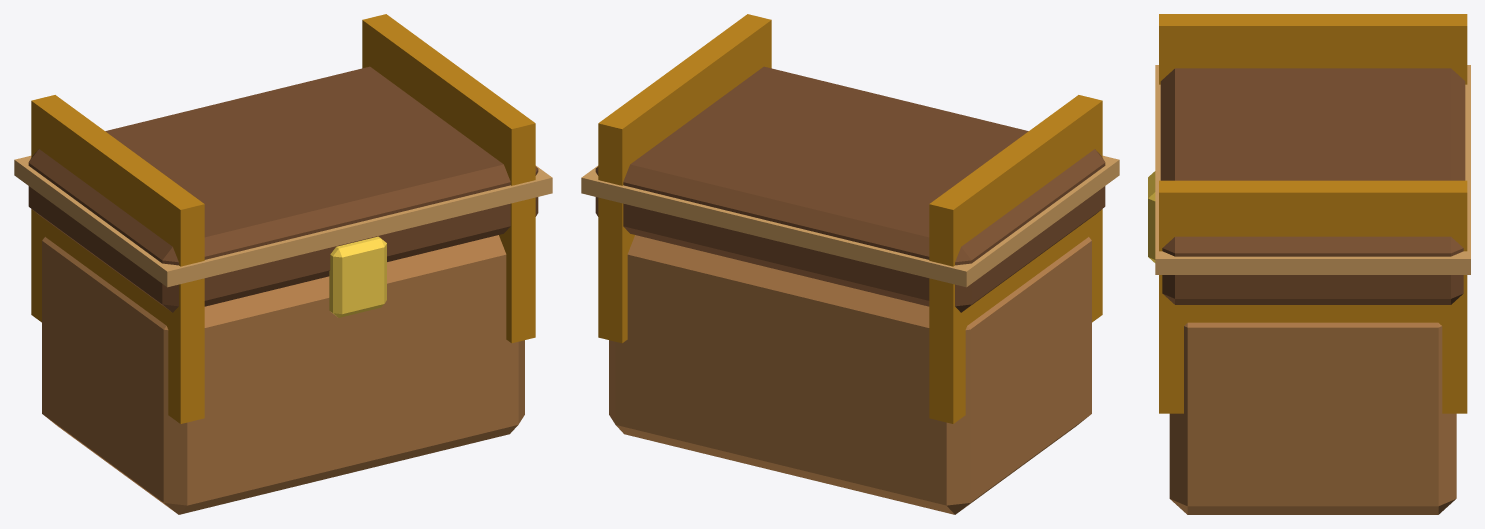
File: wood_chest.glb
The picture shows the model from 3 angles, left to right: view 1: azimuth 30°, elevation 25°; view 2: azimuth 150°, elevation 25°; view 3: azimuth 270°, elevation 25°; orthographic projection. The views are drawn at different scales.
Visible parts, largest first — view 1: wood_chest; view 2: wood_chest; view 3: wood_chest.
Boxes of the visible parts, <box> form: wood_chest: <box>14,14,552,514</box>; wood_chest: <box>581,14,1119,514</box>; wood_chest: <box>1148,14,1470,514</box>.
Bounding box in the file's own units: 1.28 × 1.01 × 0.9.
